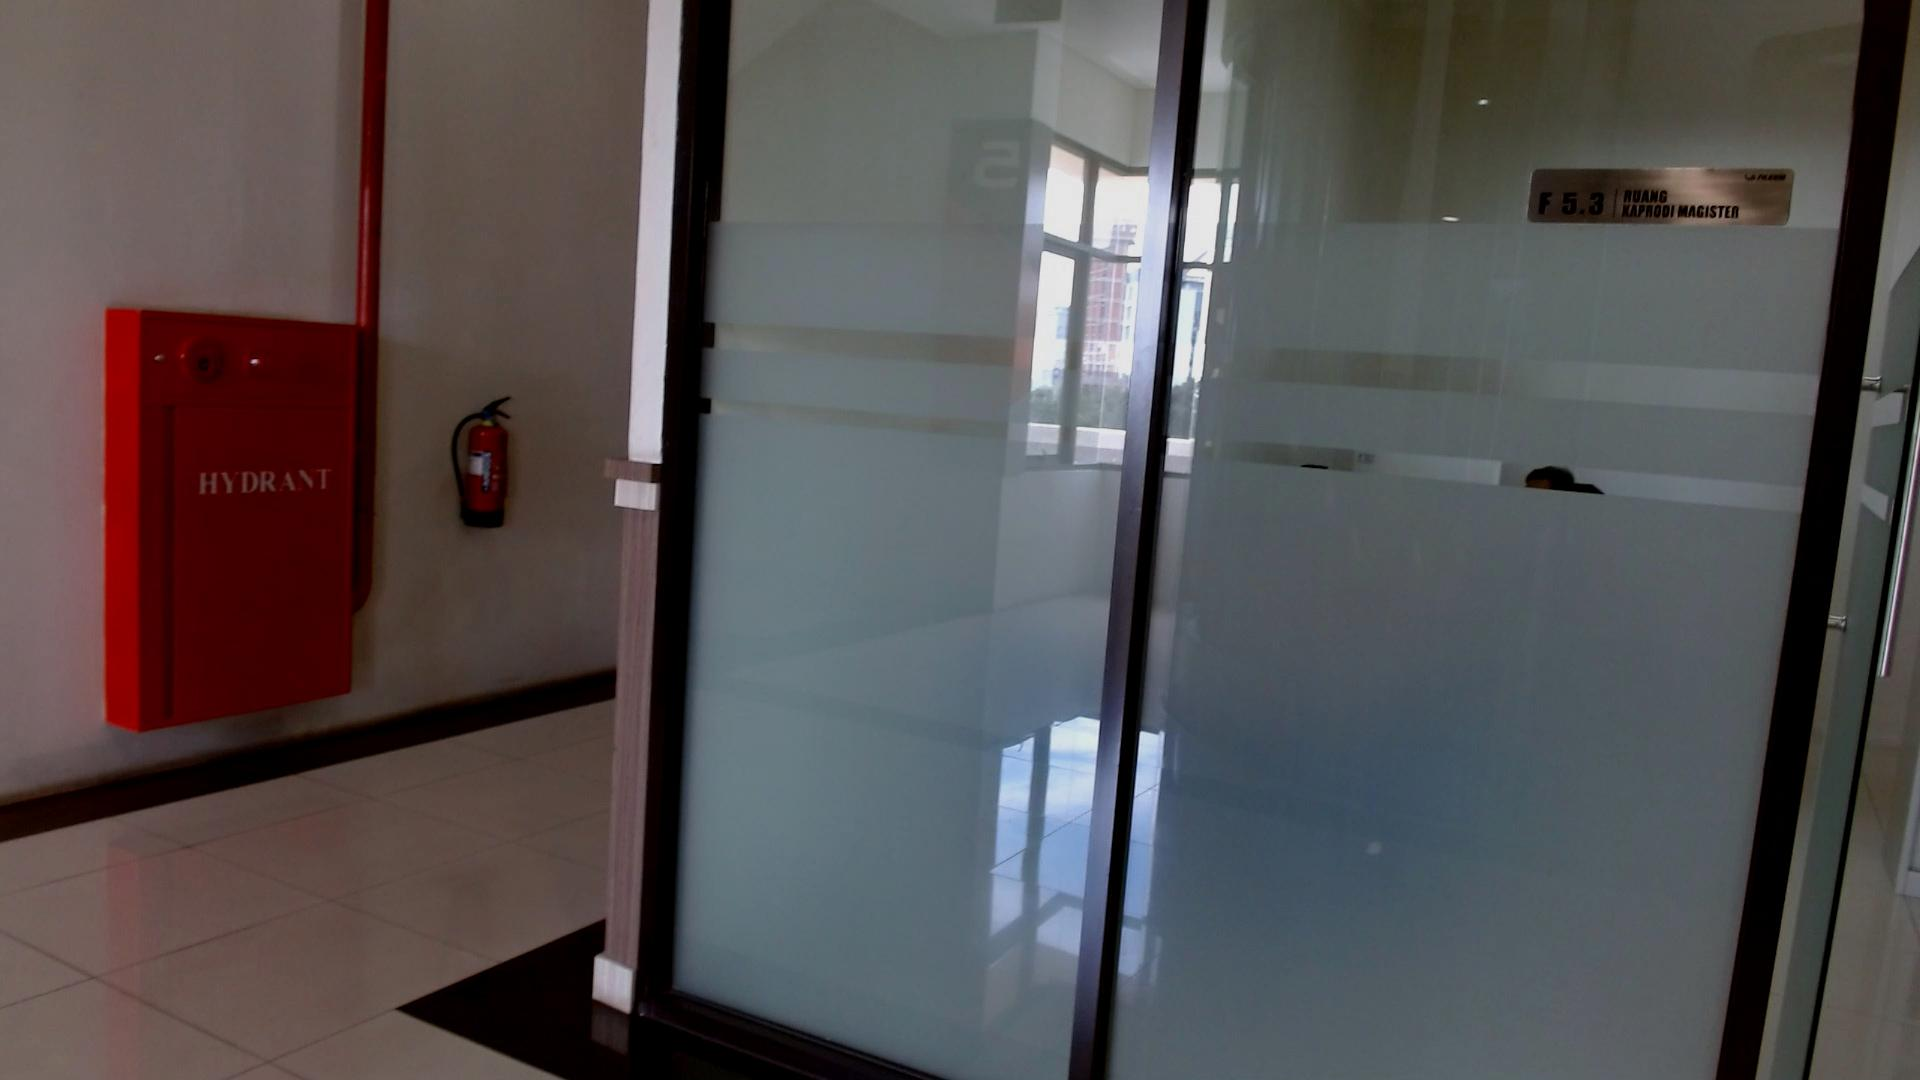plate: (1527, 167, 1796, 225)
